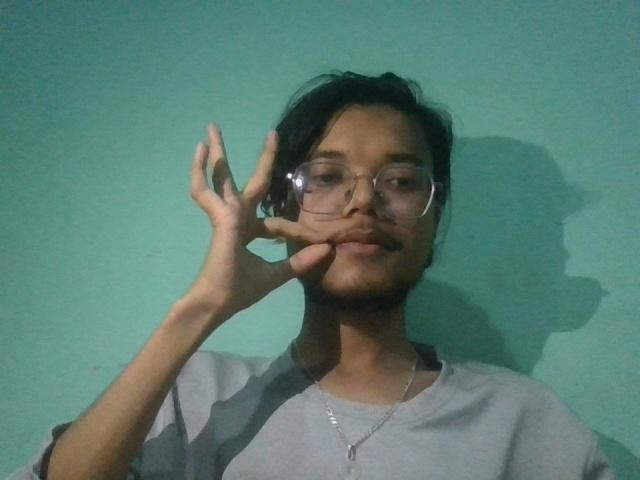Cat: (172, 111, 340, 352)
